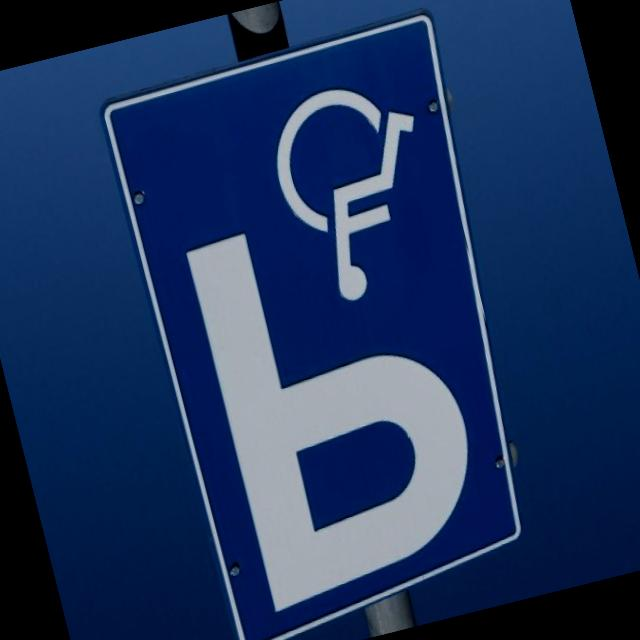symbol_of_access: (234, 47, 470, 331)
